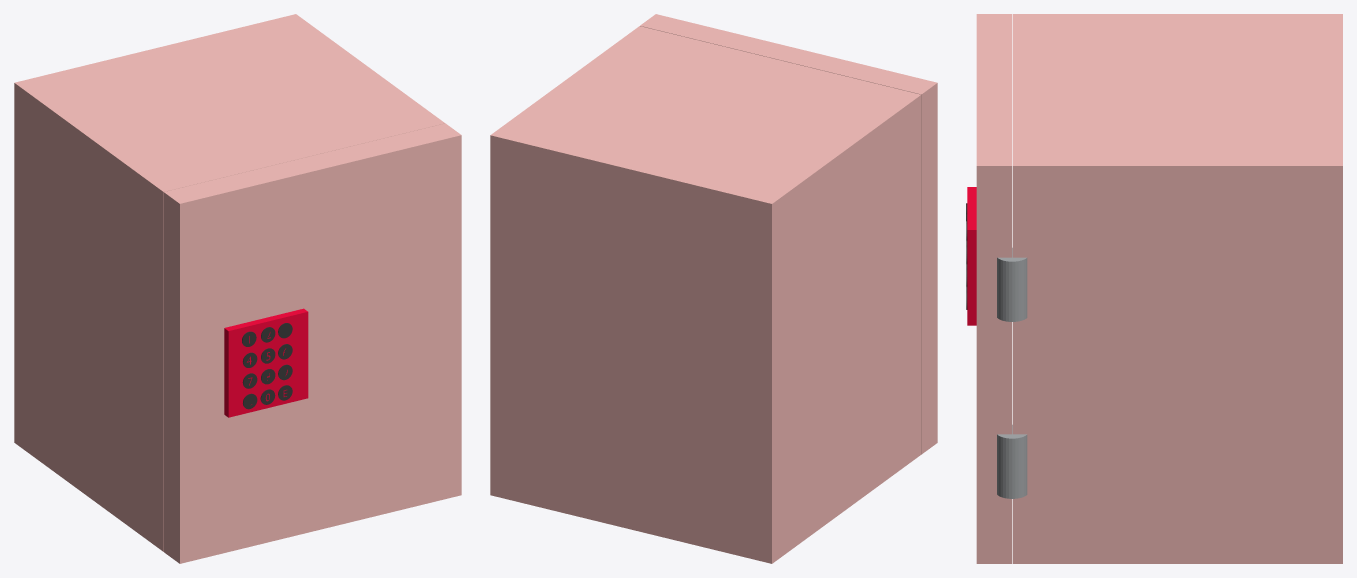
The model's file is case2lend.fbx.
The picture shows the model from 3 angles, left to right: view 1: azimuth 30°, elevation 25°; view 2: azimuth 150°, elevation 25°; view 3: azimuth 270°, elevation 25°; orthographic projection. The views are drawn at different scales.
Visible parts, largest first — view 1: Cube.001, Cube; view 2: Cube, Cube.001; view 3: Cube, Cube.001.
Boxes of the visible parts, <box> form: Cube.001: <box>164,123,461,563</box>; Cube: <box>14,14,444,551</box>; Cube: <box>490,26,921,563</box>; Cube.001: <box>640,14,937,454</box>; Cube: <box>1013,14,1342,563</box>; Cube.001: <box>966,14,1027,563</box>.
Size of the model in its own units: 190 by 225 by 193.
